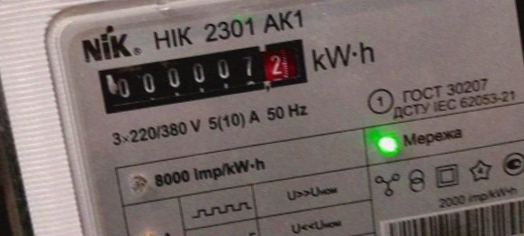0: (115, 74, 133, 99), (191, 60, 208, 85), (167, 64, 183, 89), (216, 55, 232, 80), (141, 70, 157, 94)
2: (269, 52, 285, 76)
7: (241, 52, 257, 77)
screen: (87, 26, 321, 124)
